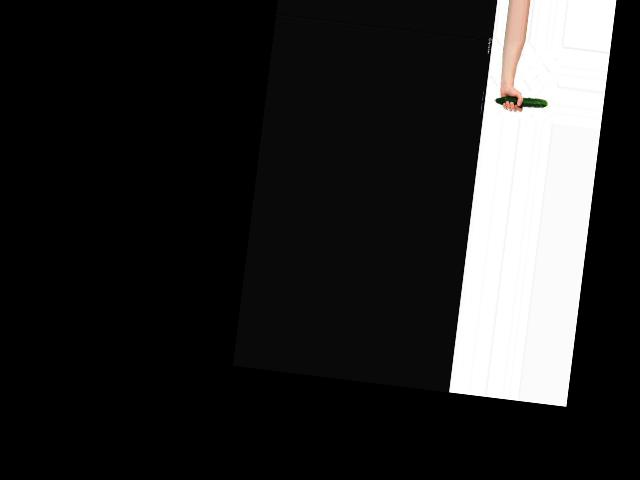cucumber: (493, 93, 547, 110)
